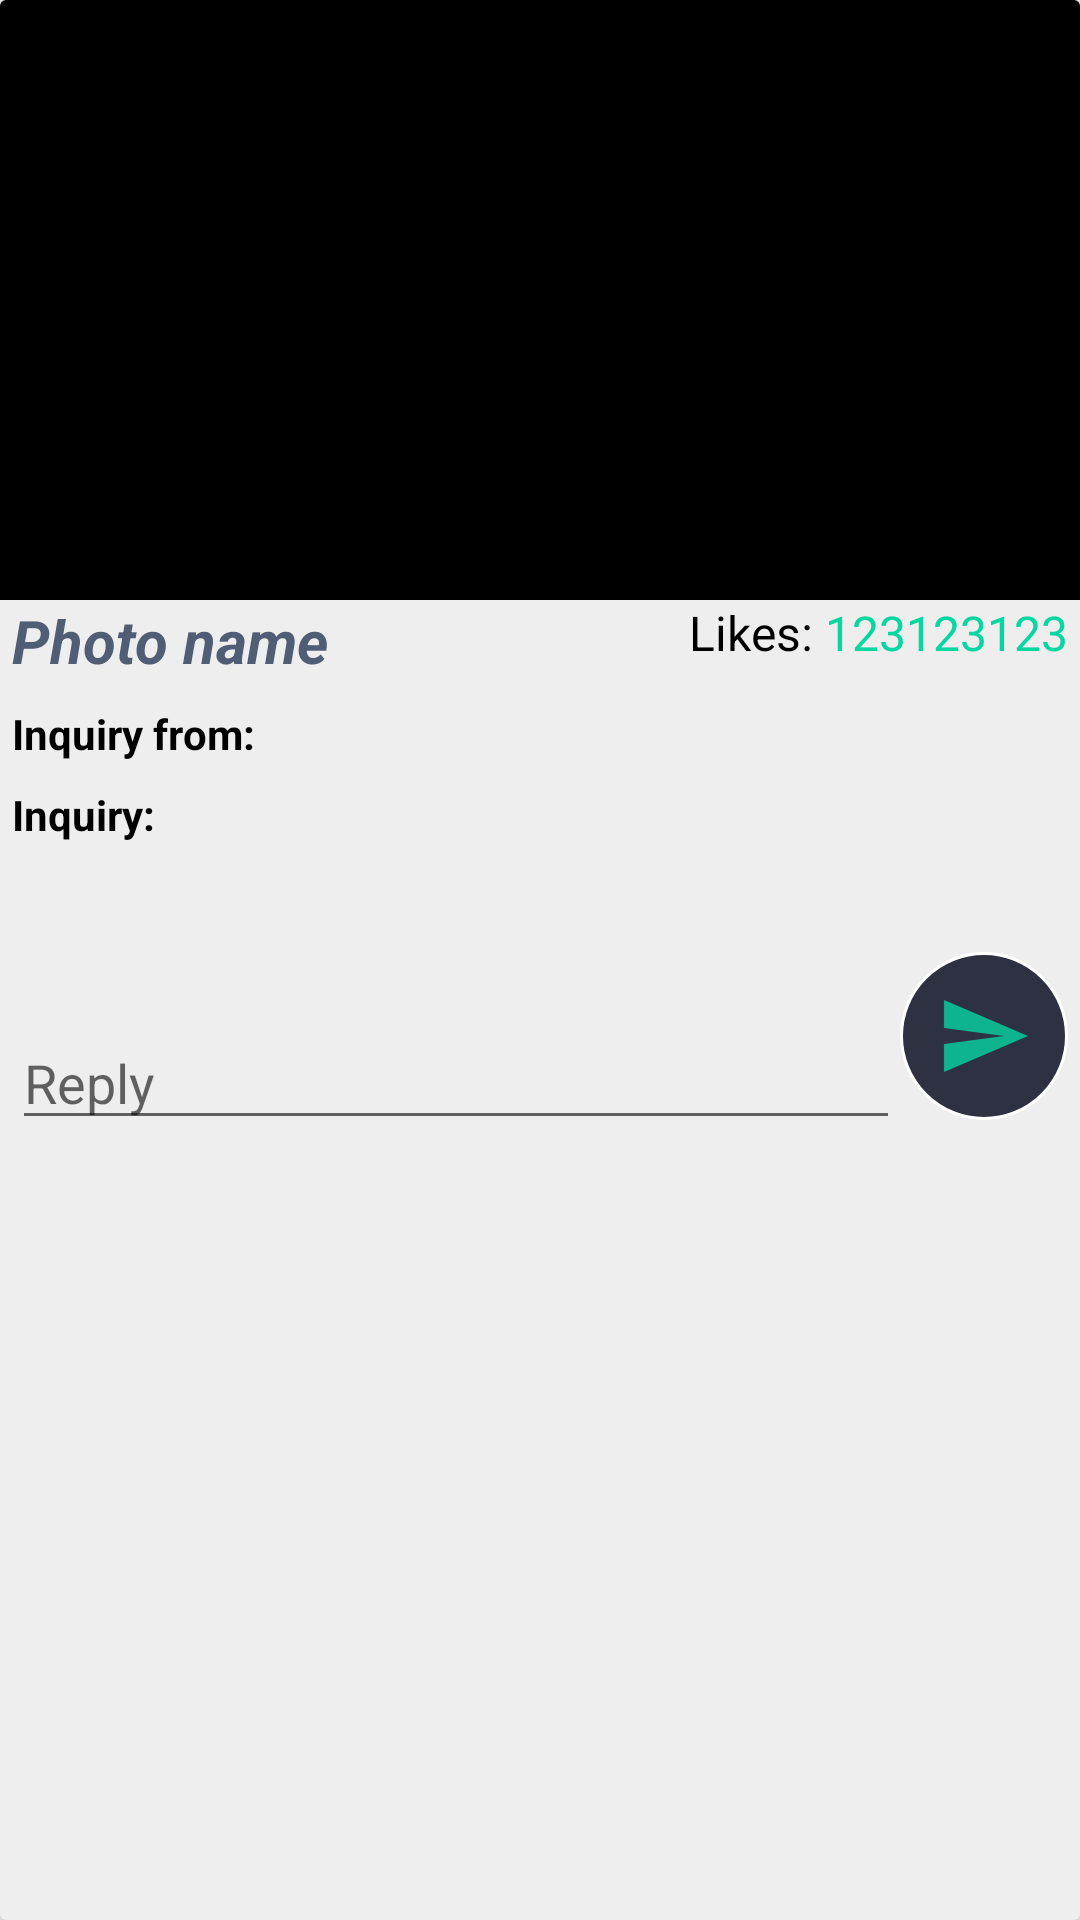

Named icons in this screenshot (1080px×1920px) and their centers, (x=x, y=y):
fab send: (x=984, y=1036)
